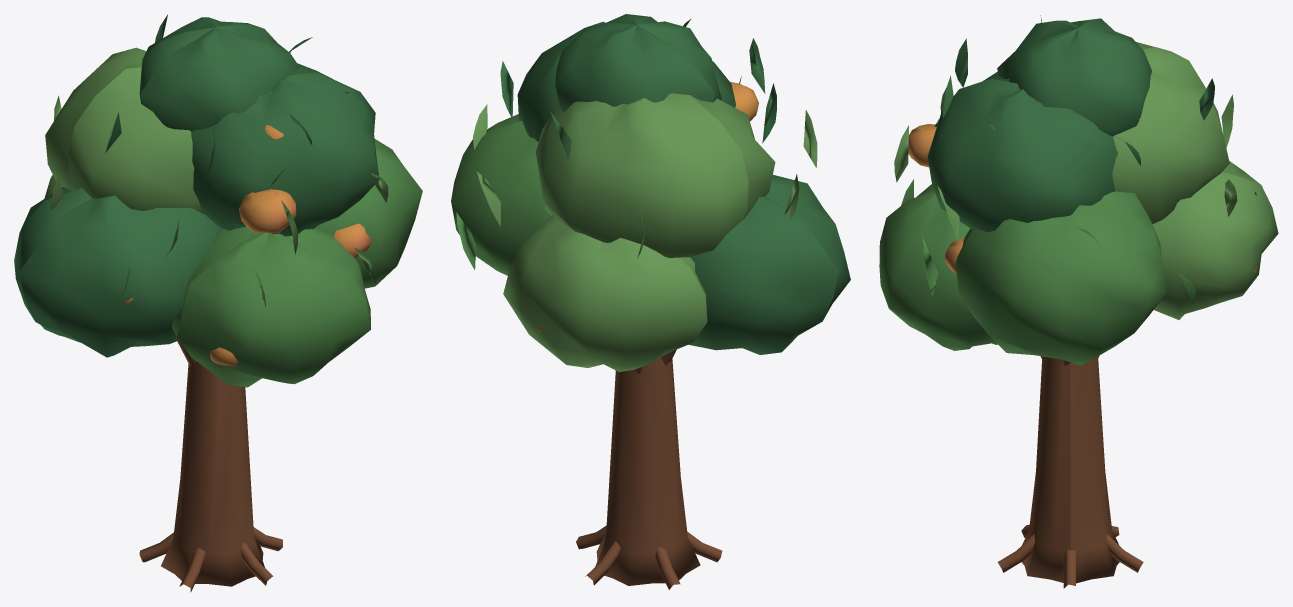
The model's file is duraznero_lod.glb.
3 views of the same model, side by side, from view 1: azimuth 30°, elevation 25°; view 2: azimuth 150°, elevation 25°; view 3: azimuth 270°, elevation 25° (orthographic).
Visible parts, largest first — view 1: duraznero_copa_viento_0, duraznero; view 2: duraznero_copa_viento_0, duraznero; view 3: duraznero_copa_viento_0, duraznero.
Part boxes in pixels (<box>): duraznero_copa_viento_0: <box>14,14,422,387</box>; duraznero: <box>139,340,282,592</box>; duraznero_copa_viento_0: <box>451,14,850,371</box>; duraznero: <box>576,349,722,589</box>; duraznero_copa_viento_0: <box>879,15,1278,365</box>; duraznero: <box>997,355,1143,588</box>.
Size of the model in its own units: 1.67 by 2.23 by 1.5.
